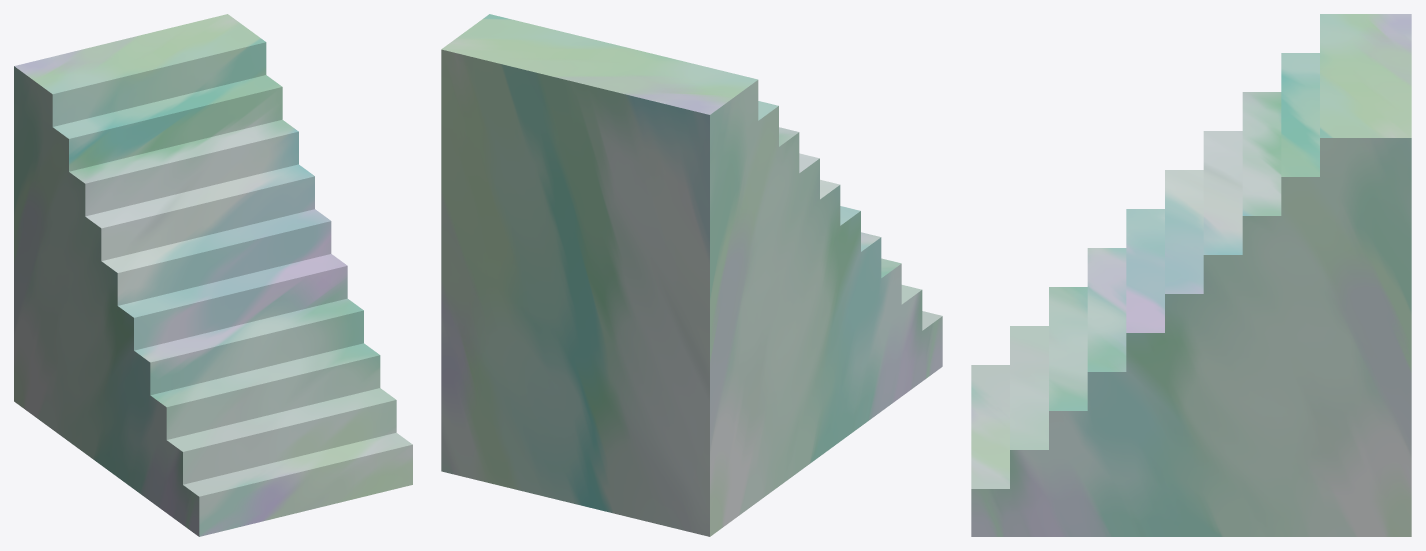
File: Stairs_Three.glb
3 views of the same model, side by side, from view 1: azimuth 30°, elevation 25°; view 2: azimuth 150°, elevation 25°; view 3: azimuth 270°, elevation 25° (orthographic). The views are drawn at different scales.
Visible parts, largest first — view 1: Stairs_Three; view 2: Stairs_Three; view 3: Stairs_Three.
Part boxes in pixels (<box>): Stairs_Three: <box>14,14,412,536</box>; Stairs_Three: <box>441,14,942,536</box>; Stairs_Three: <box>971,14,1411,536</box>.
Size of the model in its own units: 2 by 3 by 3.
Materials: 1 (1 with a texture image).
